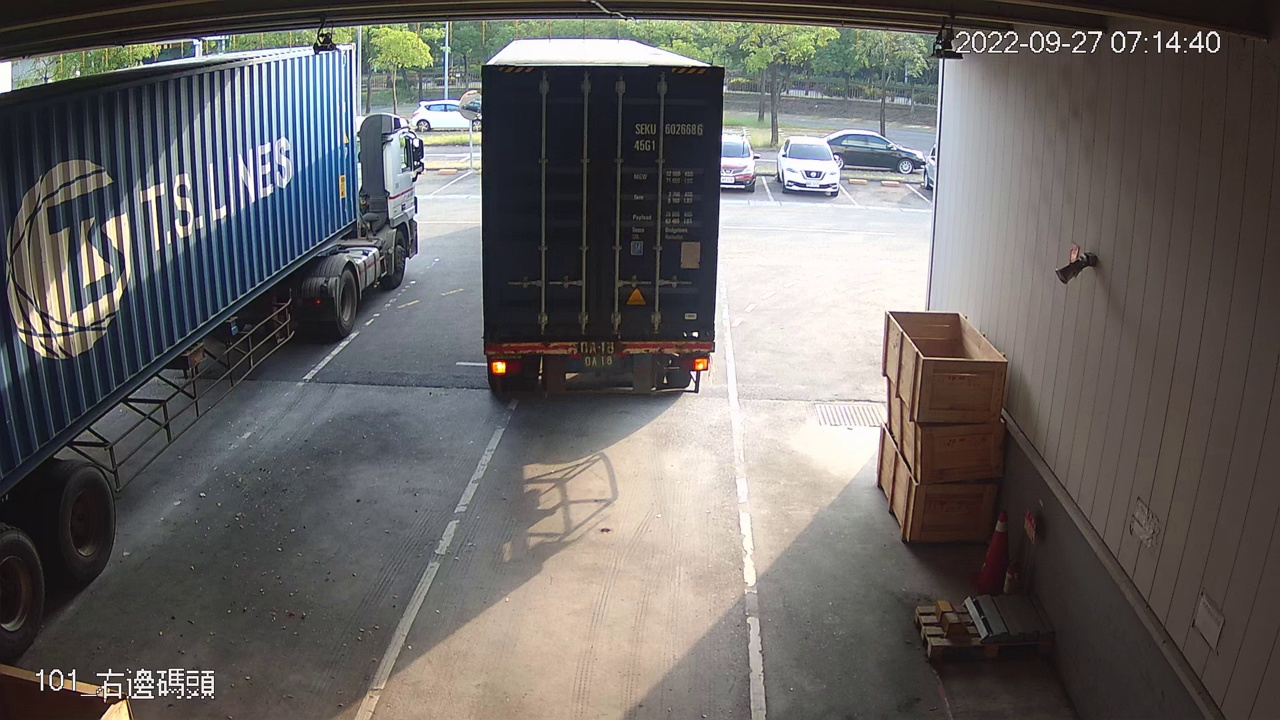container: (629, 118, 708, 156)
